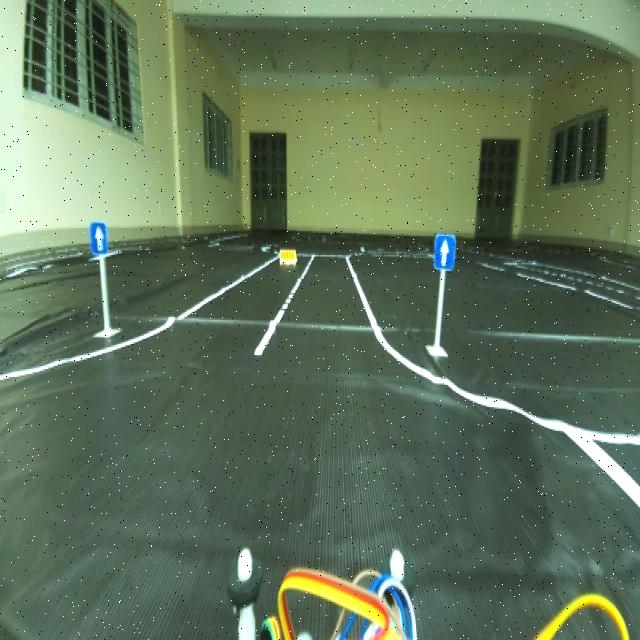onewayroad: (85, 215, 117, 254), (434, 226, 456, 270)
roadblock: (280, 248, 298, 268)
